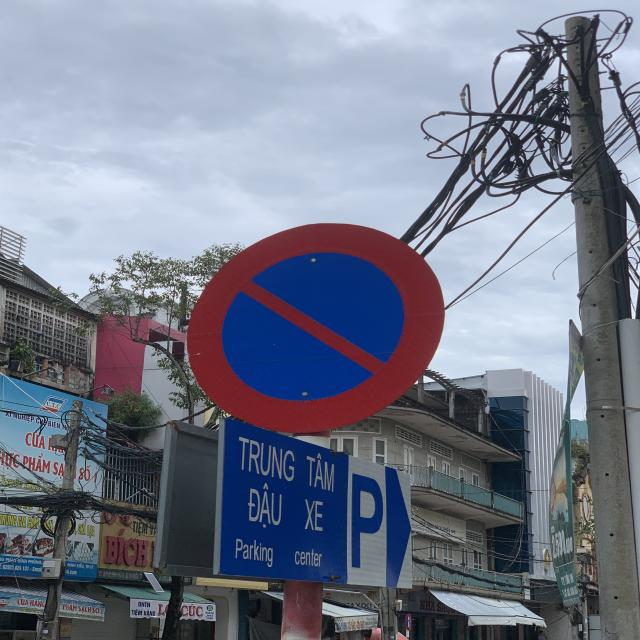Cam_Dau_Xe: (187, 222, 447, 433)
